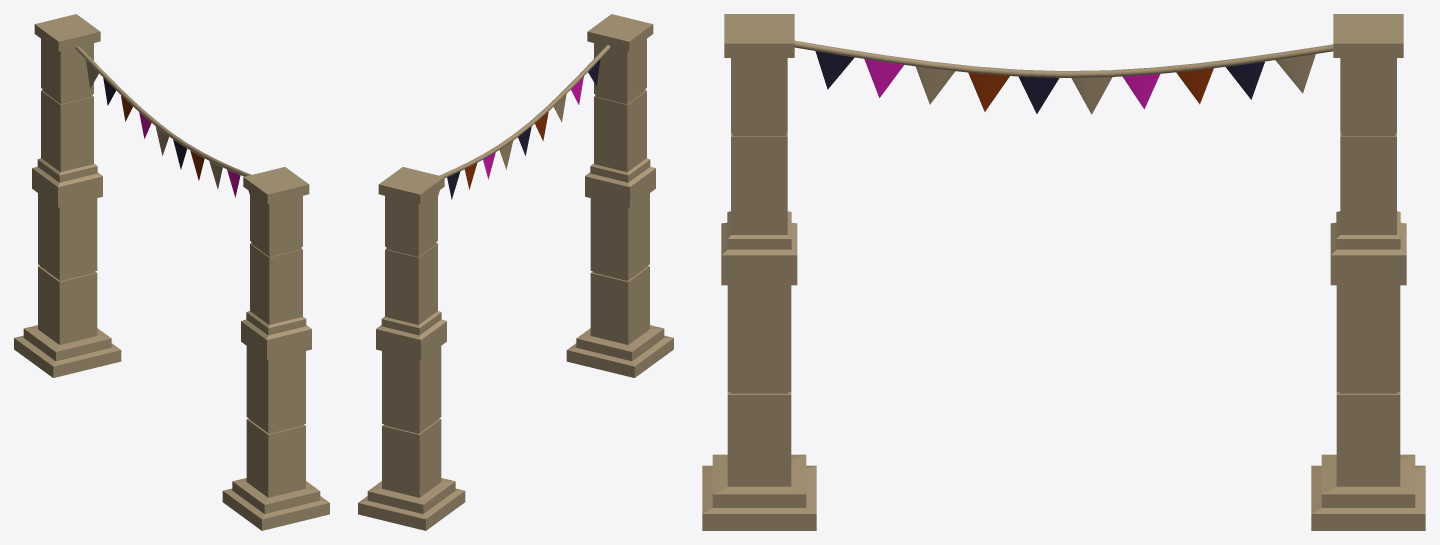
Rendered from guiralnde.fbx.
The picture shows the model from 3 angles, left to right: view 1: azimuth 30°, elevation 25°; view 2: azimuth 150°, elevation 25°; view 3: azimuth 270°, elevation 25°; orthographic projection. The views are drawn at different scales.
Visible parts, largest first — view 1: Ruine1, Ruine1.001, Cone.004; view 2: Ruine1.001, Ruine1, Cone.004; view 3: Ruine1, Ruine1.001, Cone.004.
Boxes of the visible parts, x1=… form: Ruine1: x1=222, y1=167, x2=329, y2=530; Ruine1.001: x1=14, y1=14, x2=121, y2=377; Cone.004: x1=75, y1=46, x2=251, y2=197; Ruine1.001: x1=358, y1=167, x2=465, y2=530; Ruine1: x1=566, y1=14, x2=673, y2=377; Cone.004: x1=438, y1=45, x2=610, y2=199; Ruine1: x1=702, y1=14, x2=816, y2=530; Ruine1.001: x1=1311, y1=14, x2=1425, y2=530; Cone.004: x1=794, y1=40, x2=1333, y2=114.
Size of the model in its own units: 325 by 1499 by 2057.
